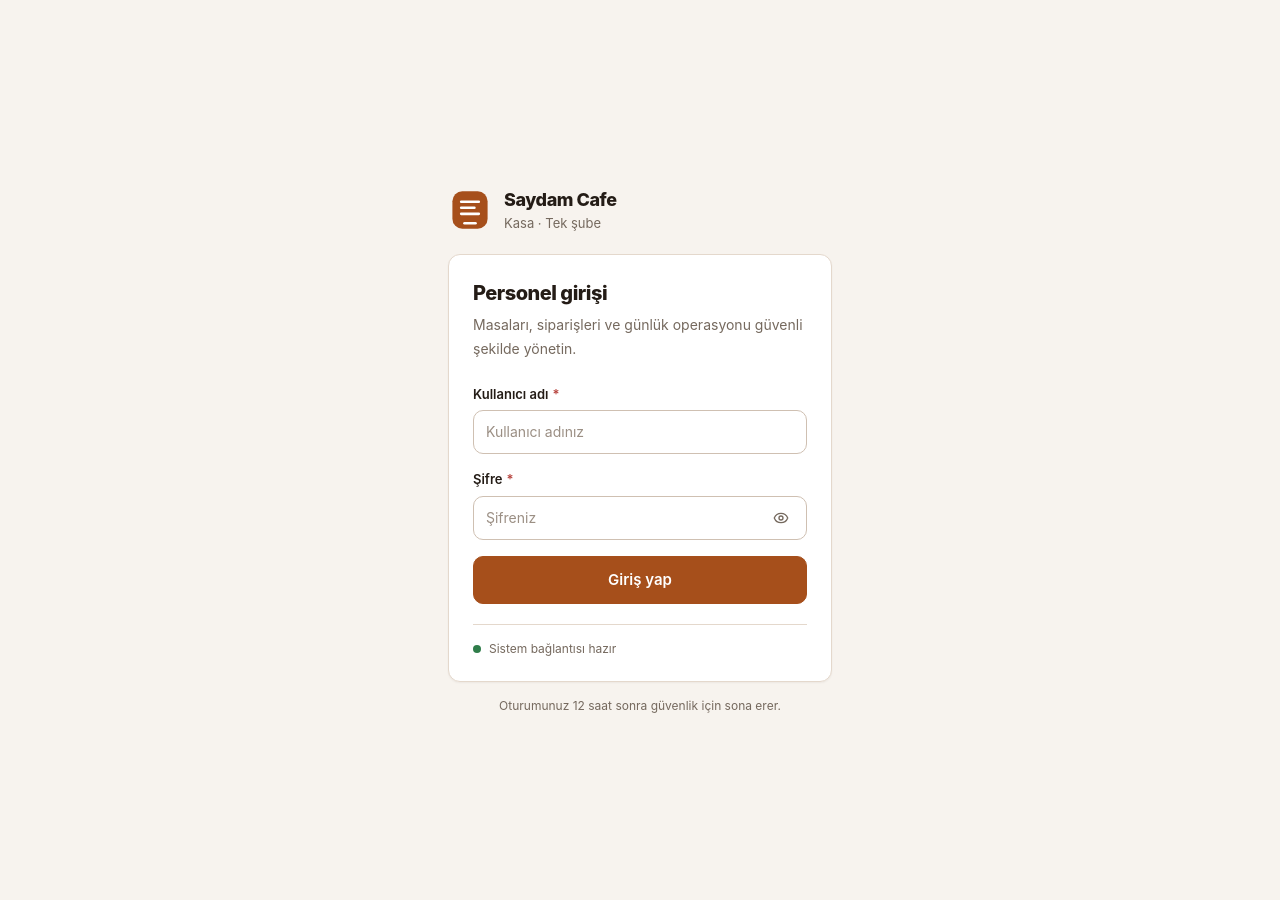
it: Frontend authentication › başarılı login sonrası korumalı uygulamaya gider
Type "owner" into the field labelled "Kullanıcı adı" at [640, 432], box [473, 410, 807, 454]
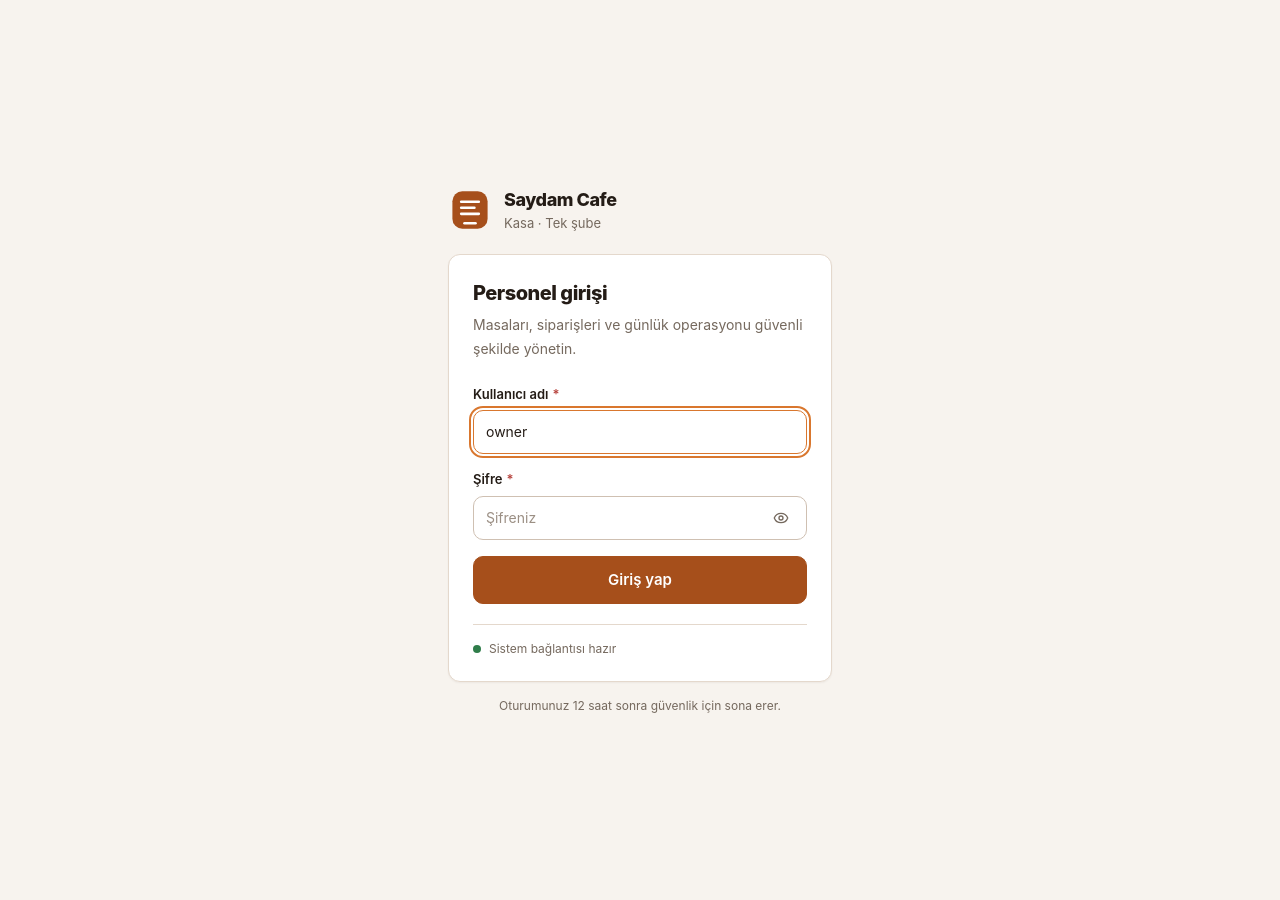
Type "OwnerTest12!" into the password field labelled "Şifre" at [640, 518], box [473, 496, 807, 540]
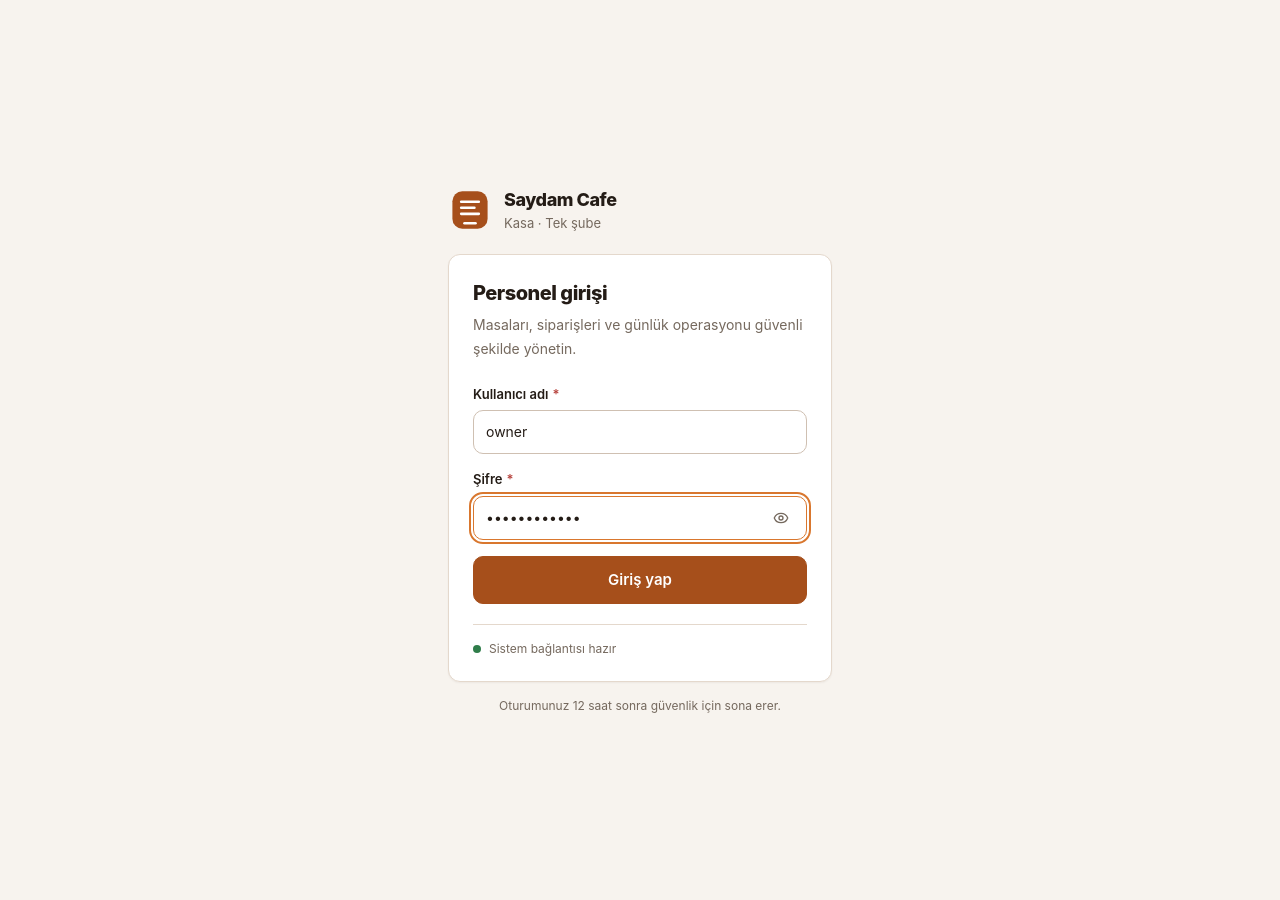
Click the button "Giriş yap" at [640, 580], box [473, 556, 807, 604]
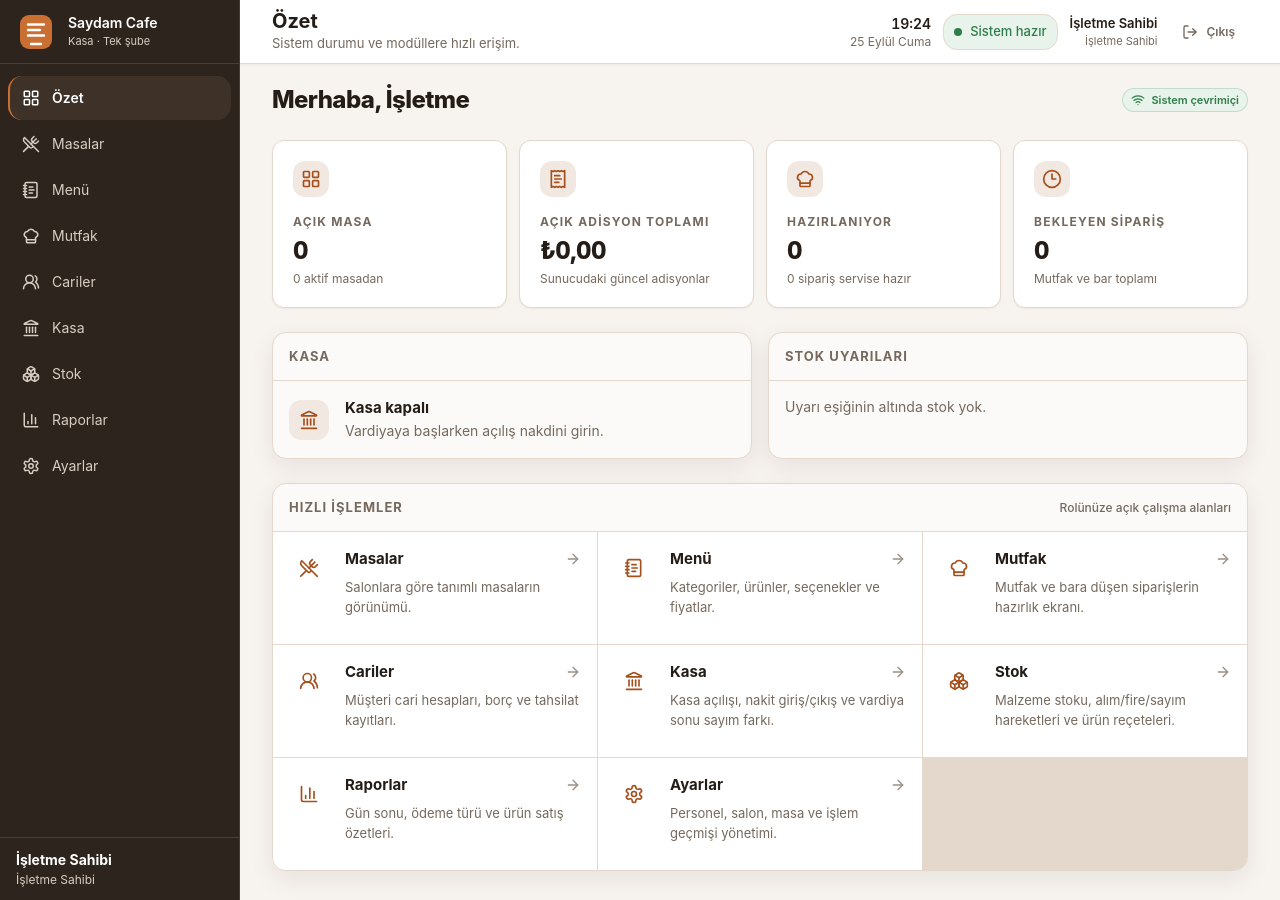
Check: the heading "Özet" is shown, box [272, 9, 318, 33]
